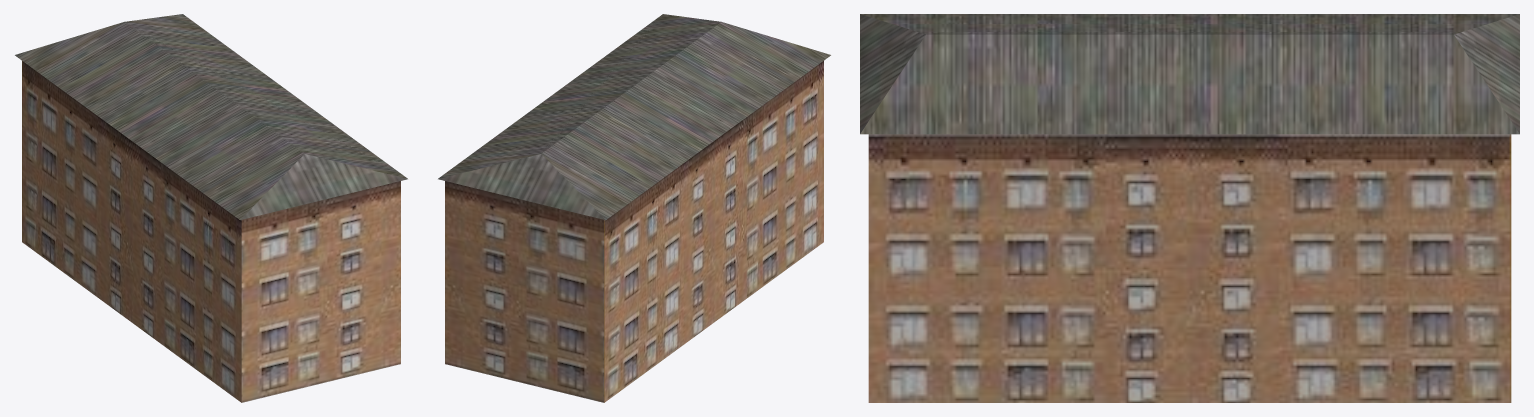
The model's file is building4.fbx.
3 views of the same model, side by side, from view 1: azimuth 30°, elevation 25°; view 2: azimuth 150°, elevation 25°; view 3: azimuth 270°, elevation 25° (orthographic). The views are drawn at different scales.
Visible parts, largest first — view 1: Cube.007; view 2: Cube.007; view 3: Cube.007.
Boxes of the visible parts, x1,y1,x2,y2 form: Cube.007: [15, 14, 407, 402]; Cube.007: [438, 14, 830, 402]; Cube.007: [860, 14, 1519, 402].
Bounding box in the file's own units: 1036 × 1259 × 2401.
1 material, 1 textured.
